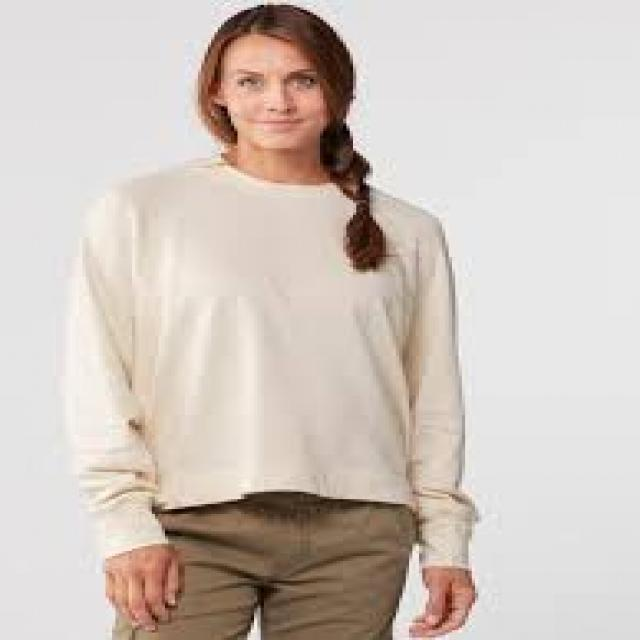plain: (69, 147, 483, 518)
